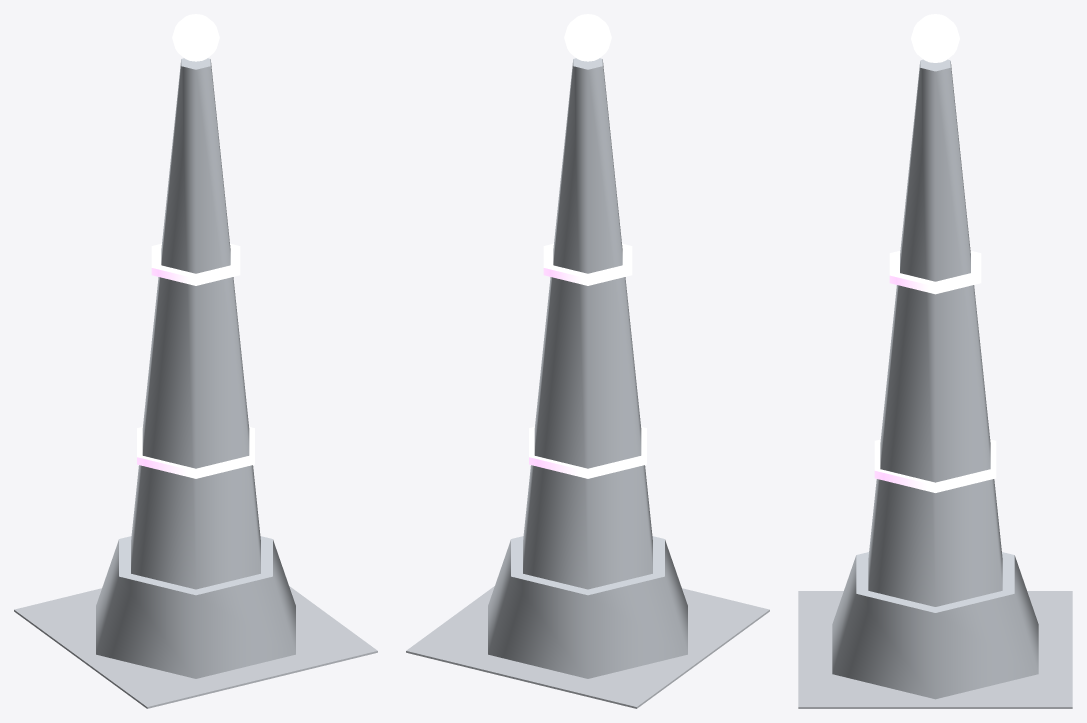
The model's file is hq_6_ai_citadel.glb.
The picture shows the model from 3 angles, left to right: view 1: azimuth 30°, elevation 25°; view 2: azimuth 150°, elevation 25°; view 3: azimuth 270°, elevation 25°; orthographic projection. The views are drawn at different scales.
Visible parts, largest first — view 1: Tower, Base, Plaza, Core, Band1, Band2; view 2: Tower, Base, Plaza, Core, Band1, Band2; view 3: Tower, Base, Plaza, Core, Band1, Band2.
Part boxes in pixels (bbox=[...]): Tower: bbox=[131, 58, 260, 589]; Base: bbox=[96, 536, 295, 678]; Plaza: bbox=[14, 586, 377, 708]; Core: bbox=[172, 14, 219, 61]; Band1: bbox=[137, 427, 254, 478]; Band2: bbox=[151, 243, 240, 285]; Tower: bbox=[523, 58, 652, 589]; Base: bbox=[488, 536, 687, 678]; Plaza: bbox=[406, 586, 769, 708]; Core: bbox=[564, 14, 611, 61]; Band1: bbox=[529, 427, 646, 478]; Band2: bbox=[543, 243, 632, 285]; Tower: bbox=[868, 59, 1002, 606]; Base: bbox=[832, 552, 1038, 699]; Plaza: bbox=[798, 591, 1072, 708]; Core: bbox=[911, 14, 959, 62]; Band1: bbox=[874, 439, 996, 492]; Band2: bbox=[889, 251, 981, 294].
Bounding box in the file's own units: 3.9 × 9.95 × 3.9.
